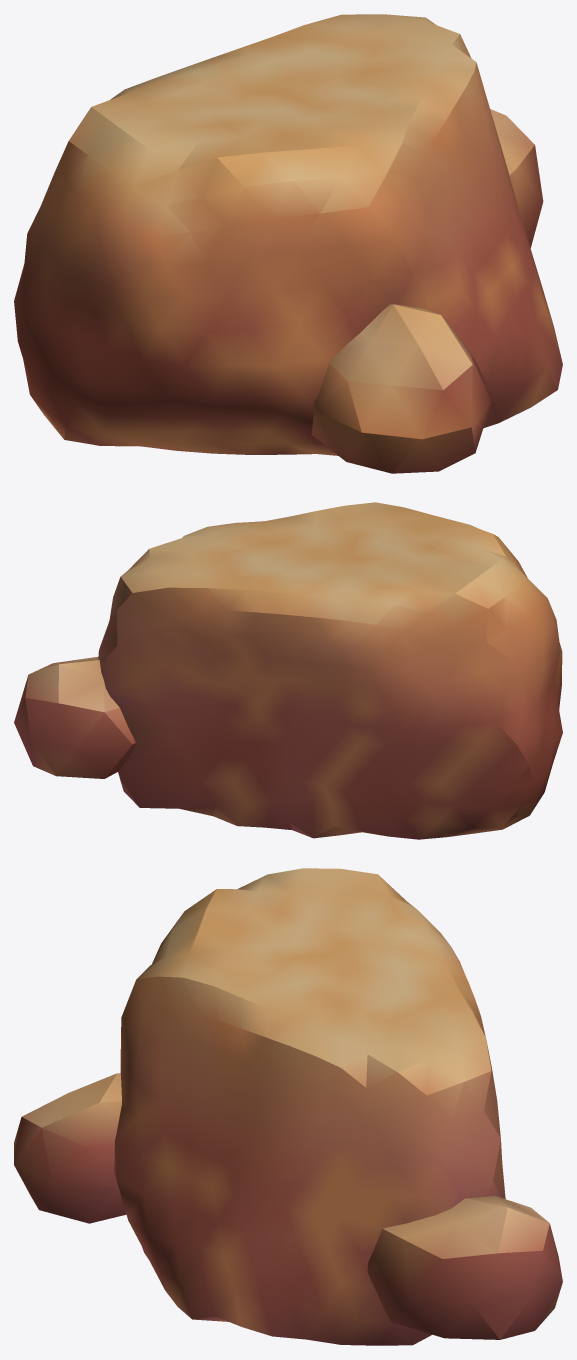
The model's file is amber_rock_chunk_b.glb.
3 views of the same model, one above another, from view 1: azimuth 30°, elevation 25°; view 2: azimuth 150°, elevation 25°; view 3: azimuth 270°, elevation 25° (orthographic). The views are drawn at different scales.
Parts seen in each view (by area): view 1: amber_rock_chunk_b; view 2: amber_rock_chunk_b; view 3: amber_rock_chunk_b.
Boxes of the visible parts, x1,y1,x2,y2 form: amber_rock_chunk_b: (14,14,562,473); amber_rock_chunk_b: (14,502,562,839); amber_rock_chunk_b: (14,868,562,1345).
Size of the model in its own units: 6.12 by 3.12 by 5.38.
